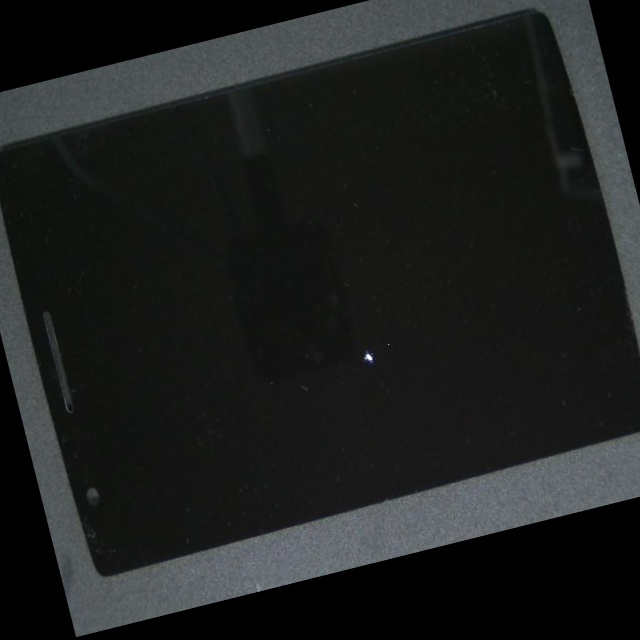stain: (133, 167, 581, 592)
